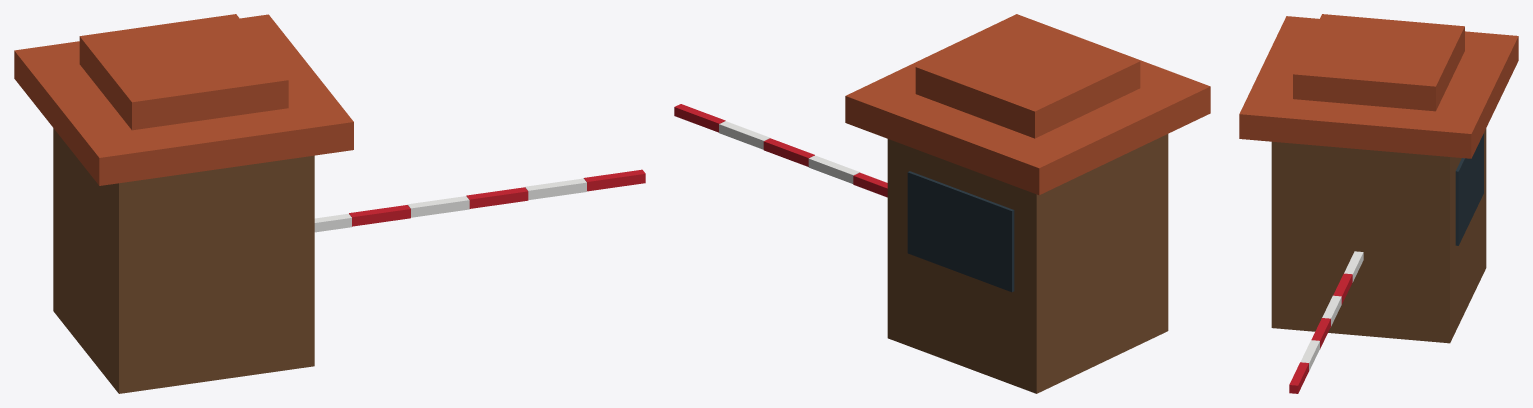
File: lindas_kiosk.glb
3 views of the same model, side by side, from view 1: azimuth 30°, elevation 25°; view 2: azimuth 150°, elevation 25°; view 3: azimuth 270°, elevation 25° (orthographic). The views are drawn at different scales.
Parts seen in each view (by area): view 1: lindas_kiosk_lod0; view 2: lindas_kiosk_lod0; view 3: lindas_kiosk_lod0.
Part boxes in pixels (x1,y1,x2,y2): lindas_kiosk_lod0: [14, 14, 645, 393]; lindas_kiosk_lod0: [674, 14, 1210, 393]; lindas_kiosk_lod0: [1239, 14, 1518, 393].
Size of what is drawn, in the model's own units: 6.15 by 3 by 3.07.
